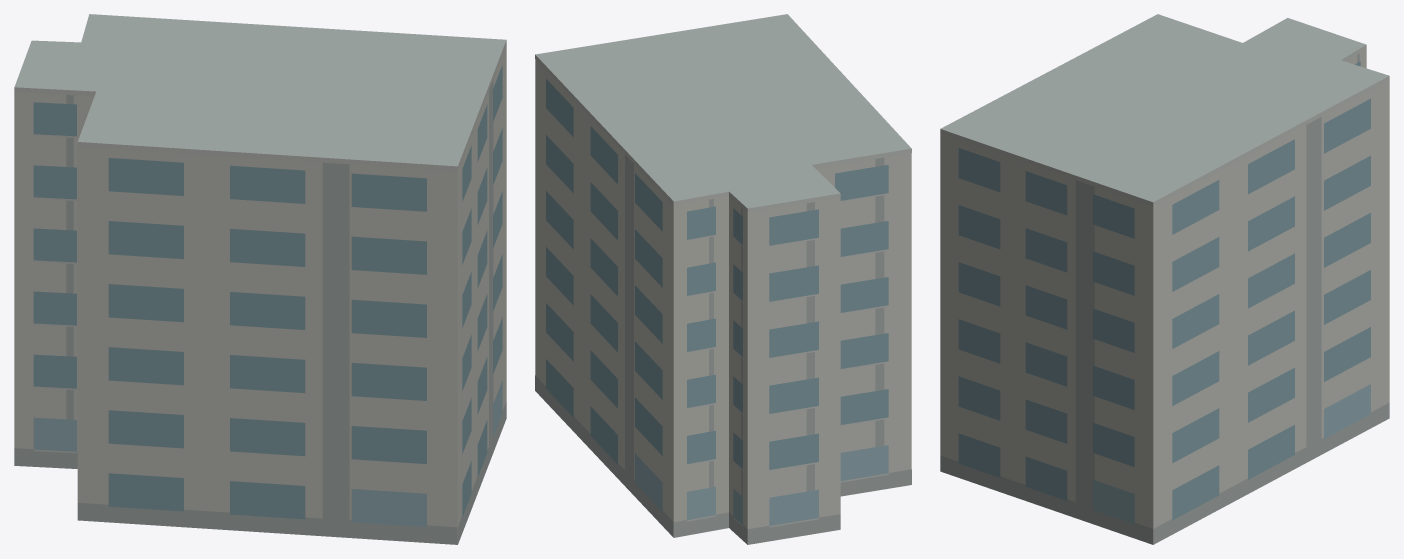
File: survey-upis-32798929.glb
3 views of the same model, side by side, from view 1: azimuth 30°, elevation 25°; view 2: azimuth 150°, elevation 25°; view 3: azimuth 270°, elevation 25° (orthographic). The views are drawn at different scales.
Parts seen in each view (by area): view 1: survey-upis-32798929.tmp; view 2: survey-upis-32798929.tmp; view 3: survey-upis-32798929.tmp.
Part boxes in pixels (x1,y1,x2,y2): survey-upis-32798929.tmp: (14, 14, 506, 544); survey-upis-32798929.tmp: (535, 14, 911, 544); survey-upis-32798929.tmp: (940, 14, 1389, 544).
Size of the model in its own units: 21.82 by 18.5 by 22.
